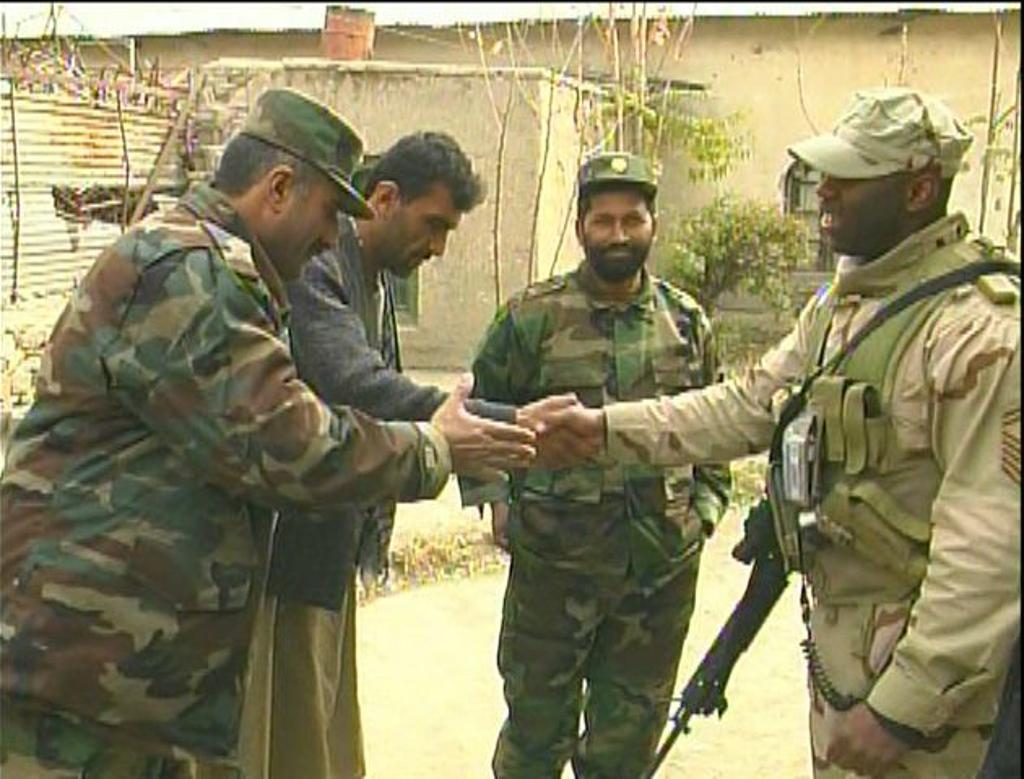face: (818, 124, 896, 256), (284, 152, 342, 282), (394, 170, 464, 274), (586, 184, 650, 278)
